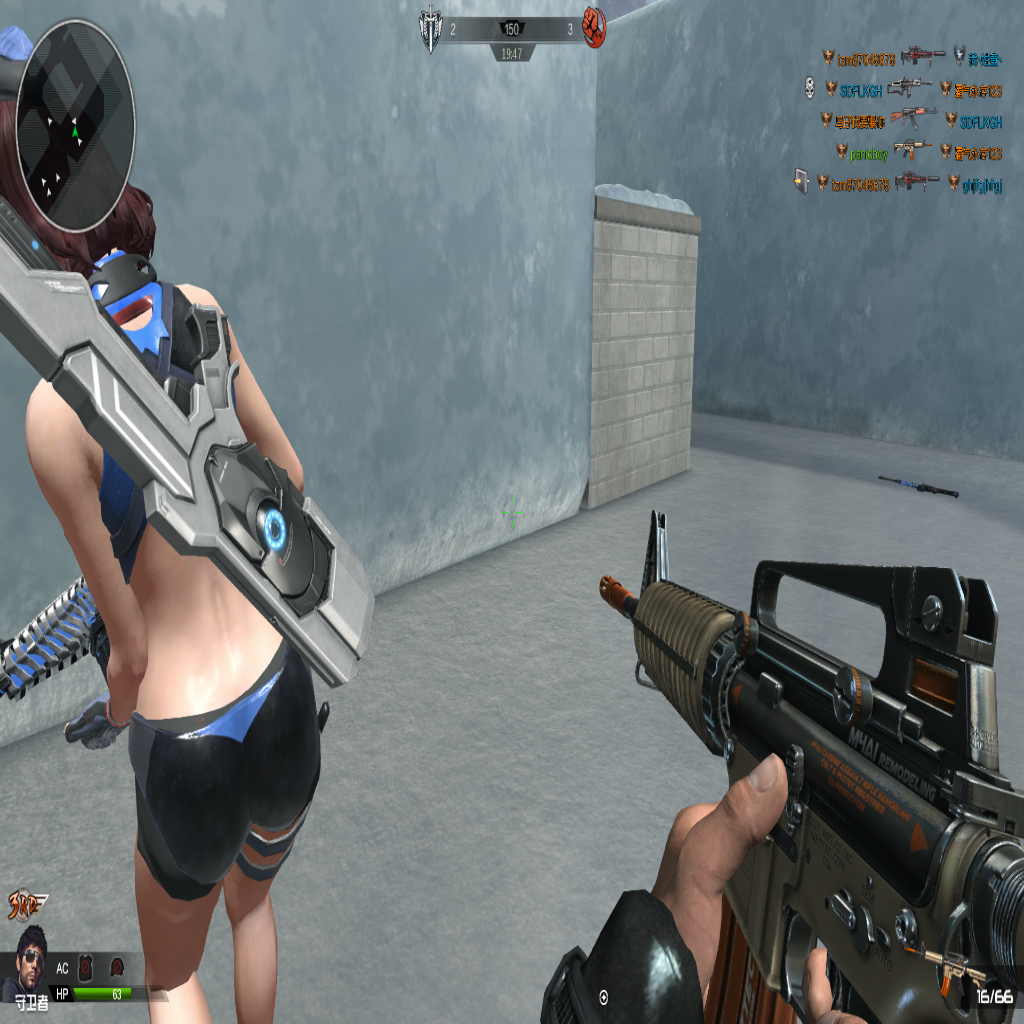ct: (2, 40, 360, 815)
